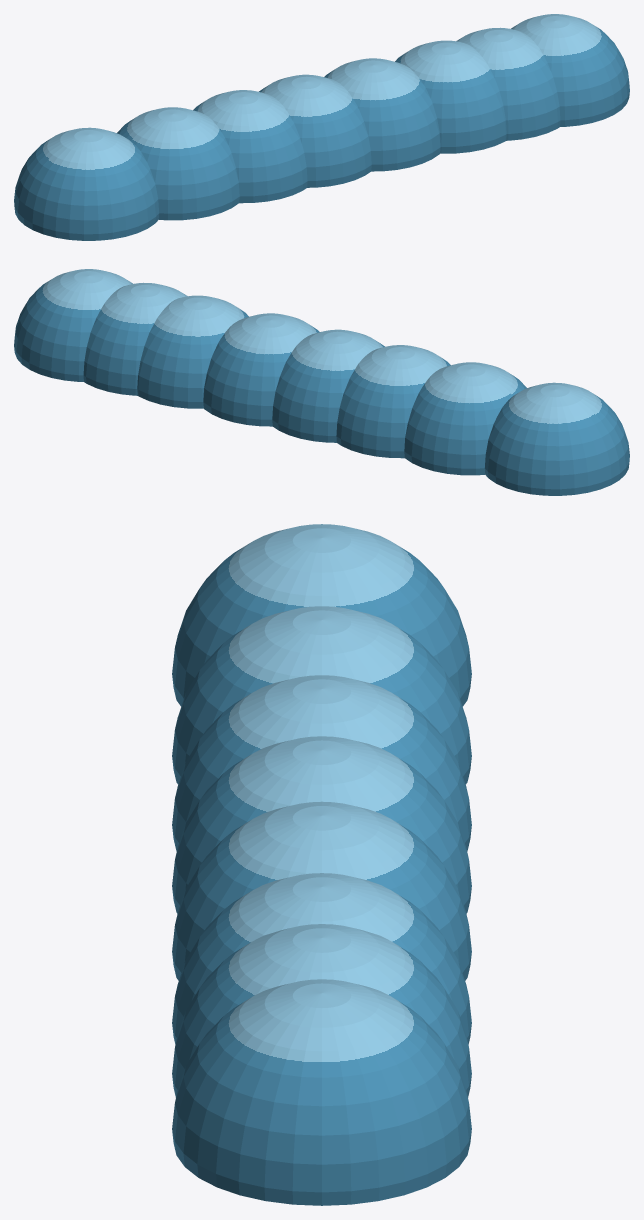
File: bolasdecolores.fbx_Collection.fbx
The picture shows the model from 3 angles, top to bottom: view 1: azimuth 30°, elevation 25°; view 2: azimuth 150°, elevation 25°; view 3: azimuth 270°, elevation 25°; orthographic projection. The views are drawn at different scales.
Visible parts, largest first — view 1: Sphere; view 2: Sphere; view 3: Sphere.
Boxes of the visible parts, bbox=[...] form: Sphere: bbox=[14, 14, 629, 240]; Sphere: bbox=[14, 269, 629, 495]; Sphere: bbox=[172, 524, 471, 1205].
Size of the model in its own units: 918 by 110 by 200.
Materials: 1 (1 with a texture image).
